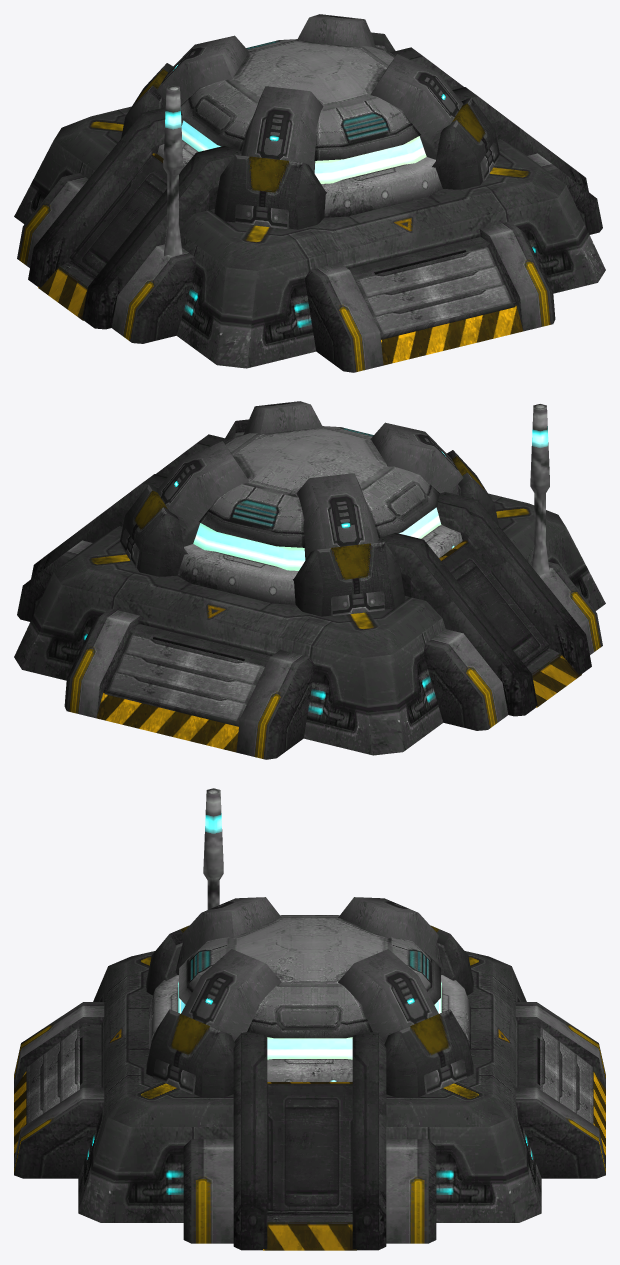
The model's file is Bunker_Umojan.glb.
3 views of the same model, one above another, from view 1: azimuth 30°, elevation 25°; view 2: azimuth 150°, elevation 25°; view 3: azimuth 270°, elevation 25° (orthographic). The views are drawn at different scales.
Visible parts, largest first — view 1: Mesh, Mesh.001; view 2: Mesh, Mesh.001; view 3: Mesh, Mesh.001.
Boxes of the visible parts, x1,y1,x2,y2 form: Mesh: (14,32,605,372); Mesh.001: (156,14,498,256); Mesh: (14,419,605,759); Mesh.001: (121,401,549,616); Mesh: (14,925,605,1250); Mesh.001: (149,788,470,1094).
Size of the model in its own units: 2.56 by 1.15 by 2.55.
2 materials, 2 textured.
